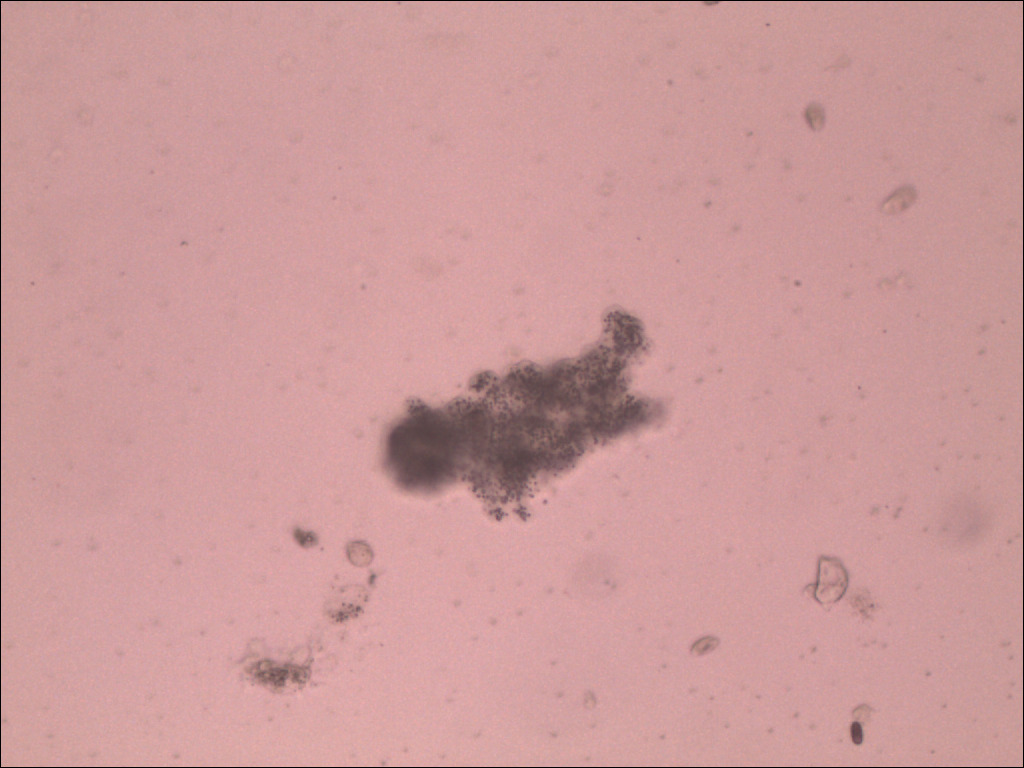amoeba: (374, 297, 713, 531)
